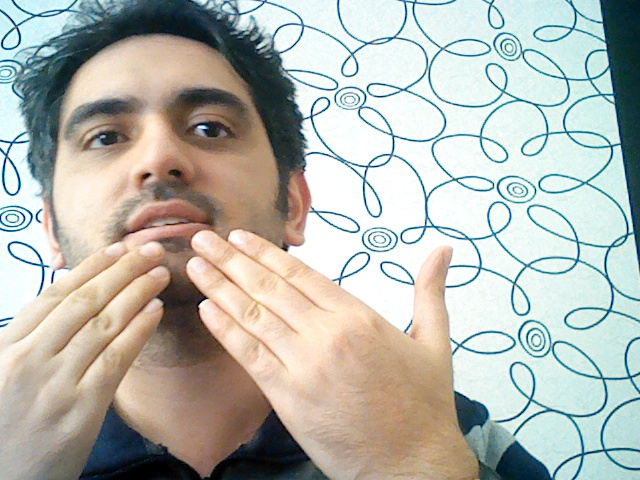ThankYou: (1, 228, 477, 480)
